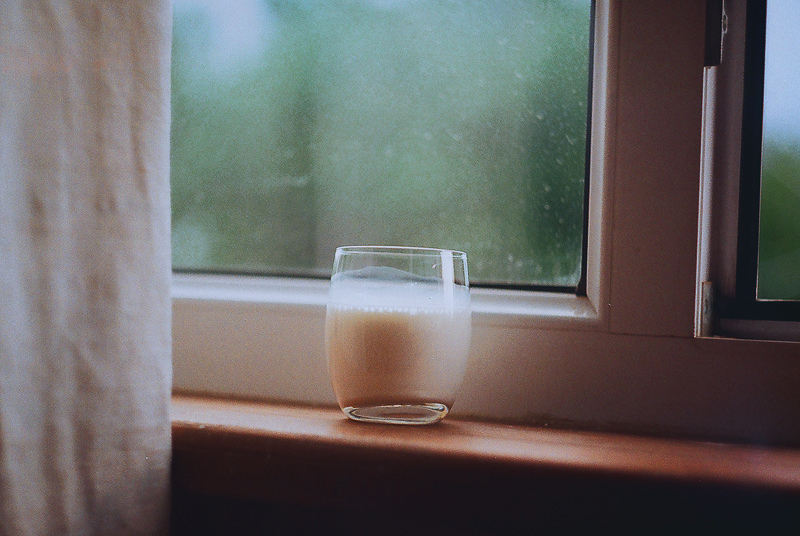glass of milk: (332, 238, 468, 426)
